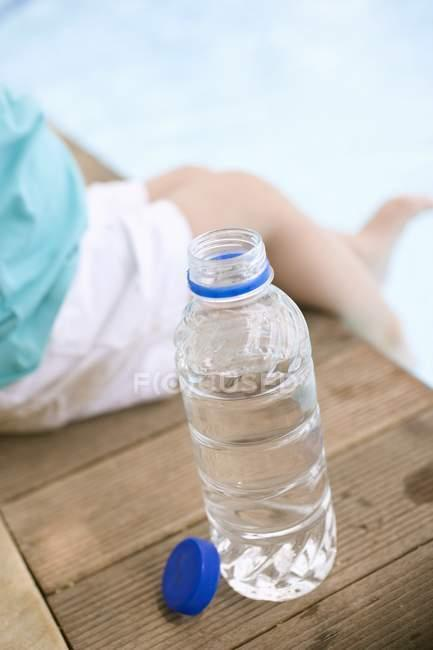bottle: (149, 220, 347, 622)
